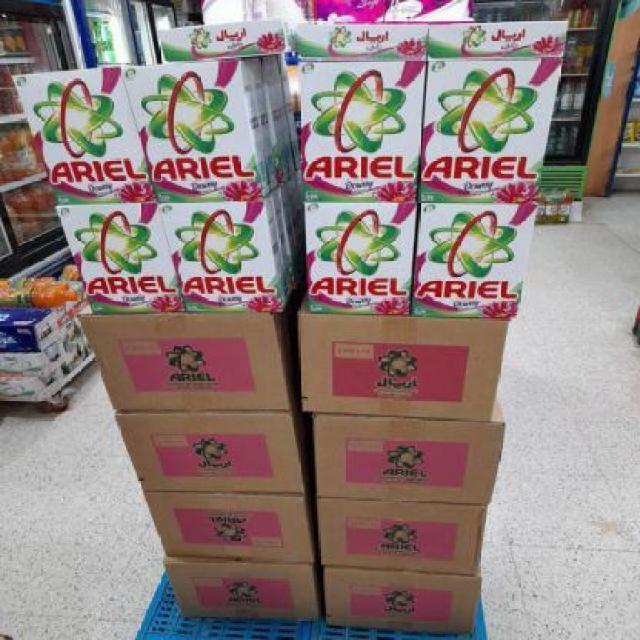Detergent: (419, 54, 565, 203), (125, 62, 269, 199), (292, 55, 424, 204), (39, 67, 151, 204), (412, 201, 544, 312), (165, 199, 287, 313), (170, 200, 290, 312), (298, 207, 416, 318), (66, 205, 170, 317), (425, 17, 569, 60), (289, 22, 433, 62), (143, 19, 289, 56)
